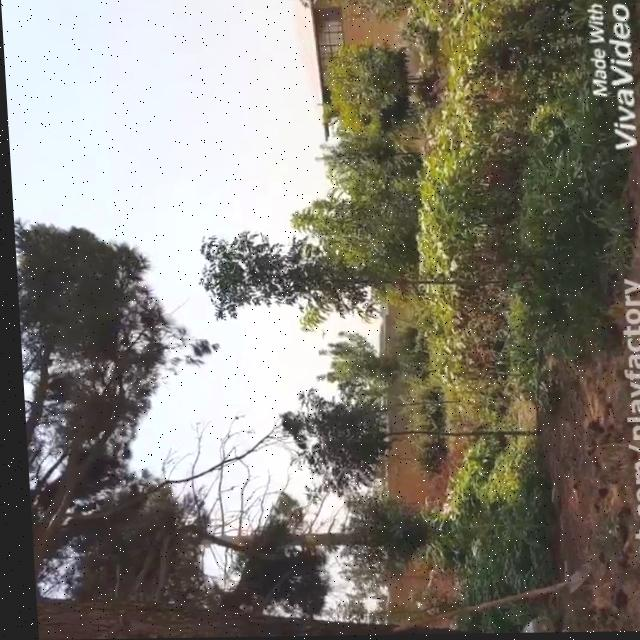drone: (312, 330, 322, 343)
